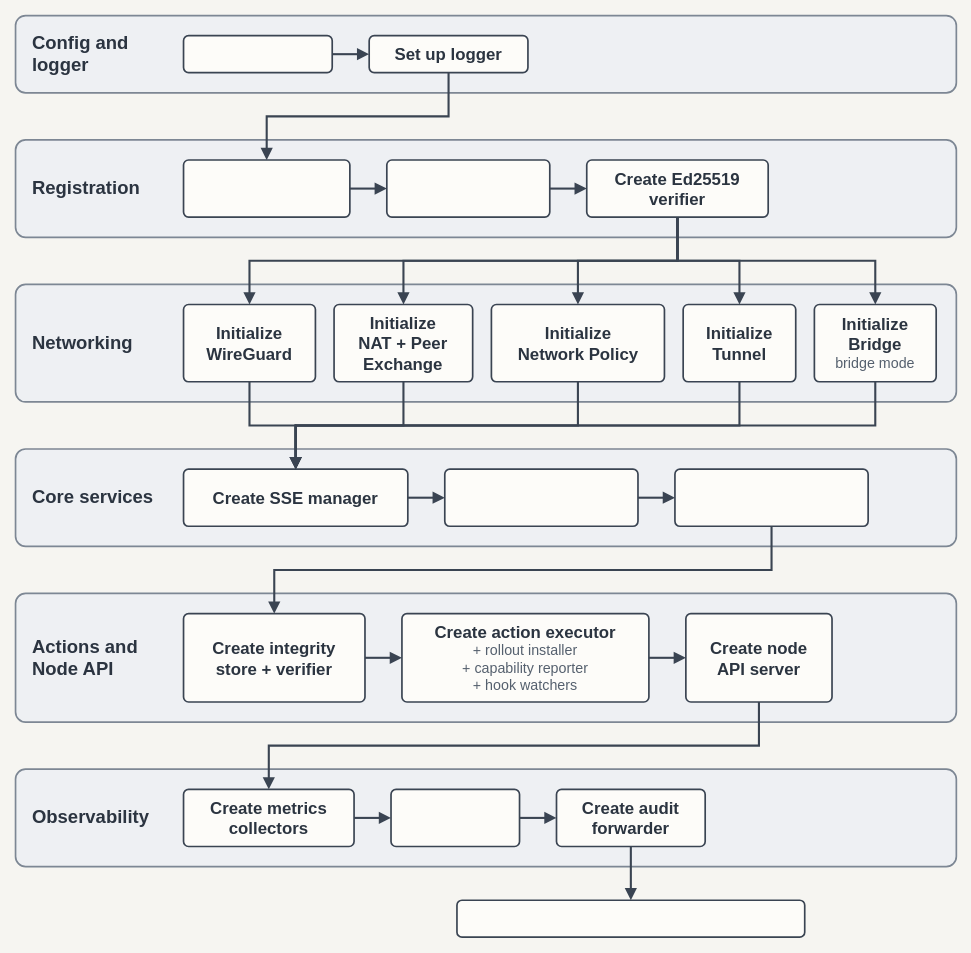
Image size: 971x953. Some labels were removed from this diagram. The box of each missing label's shape, as (x1, y1, x2, y2) in pixels:
Create control plane client: (182, 159, 350, 218)
Create heartbeat service: (674, 468, 869, 527)
Create log forwarder: (390, 788, 520, 847)
Create reconciler: (444, 468, 638, 527)
Launch goroutines via WaitGroup: (456, 899, 805, 938)
Parse config: (182, 34, 333, 73)
Register node: (386, 159, 550, 218)
